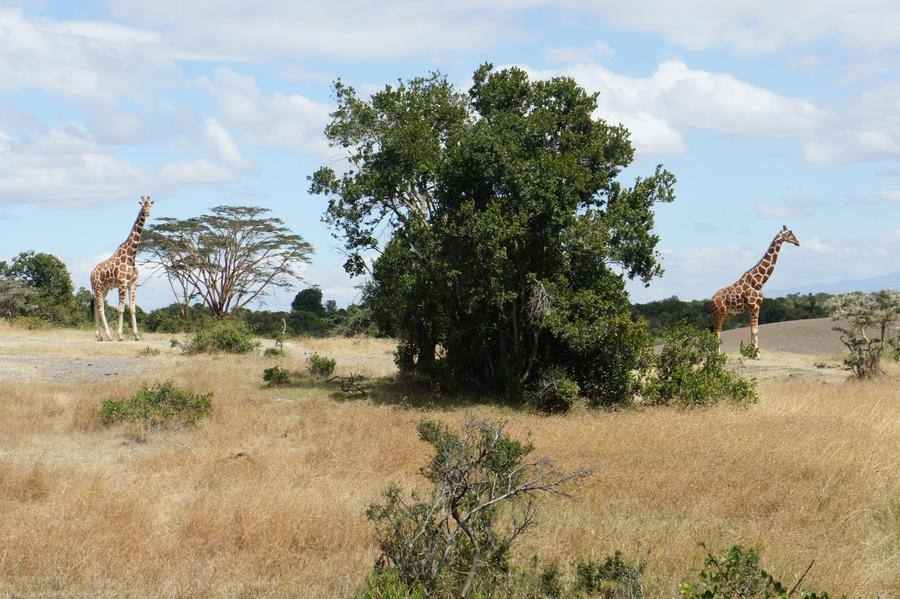giraffe: (702, 218, 803, 358), (86, 194, 157, 351)
